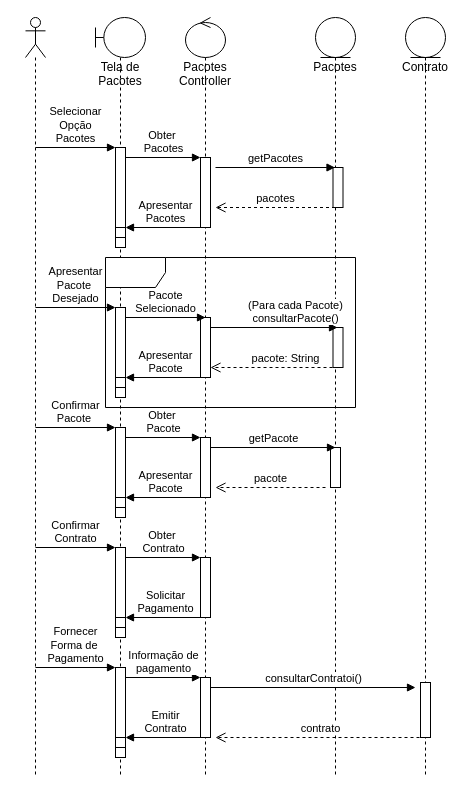
This 466x795 diagram has some shape labels left out. The box of each missing label's shape, as (x1, y1, x2, y2) in pixels:
Cliente: (24, 16, 46, 778)
Loop-: (104, 256, 356, 408)
